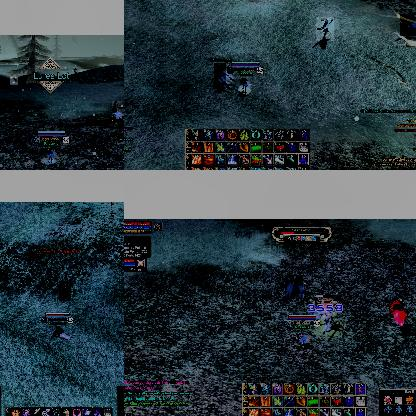caliana: (316, 17, 334, 41), (285, 275, 303, 299), (400, 14, 416, 36), (214, 63, 226, 89), (112, 101, 124, 121), (59, 281, 71, 301), (0, 77, 6, 88), (10, 77, 18, 85), (73, 67, 77, 73)
